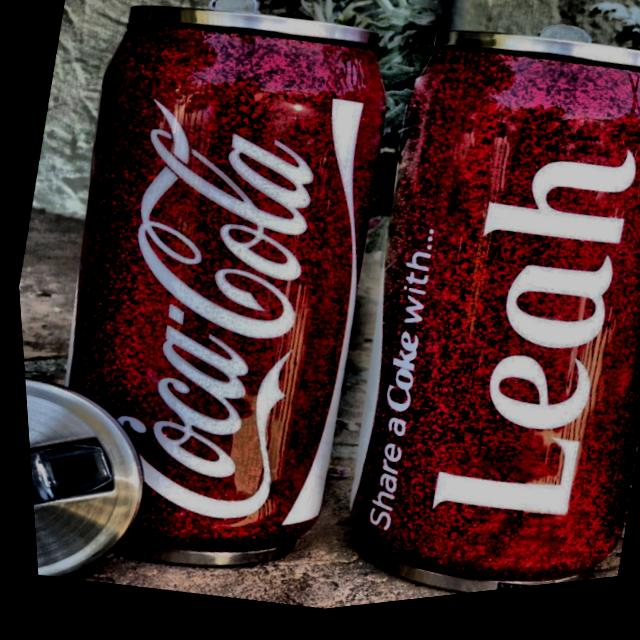Cans: (0, 0, 454, 628), (270, 0, 640, 617)
